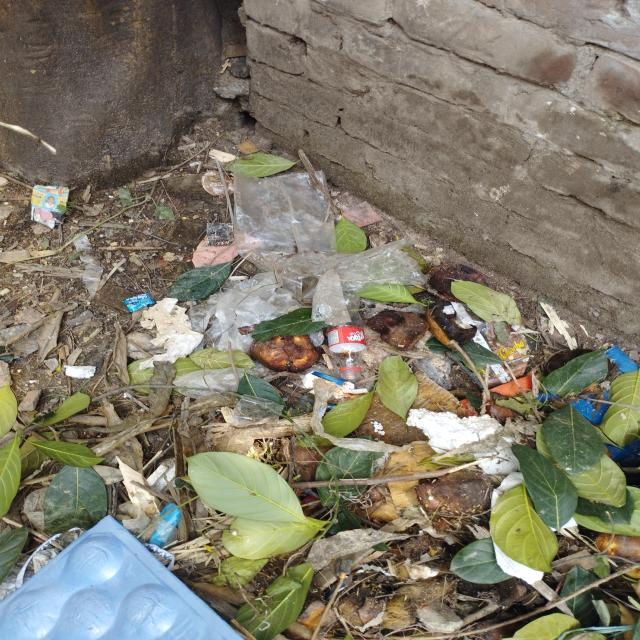plastic: (318, 292, 376, 384)
